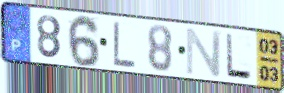6: (66, 13, 102, 69)
8: (146, 23, 174, 74), (36, 14, 63, 60)
L: (224, 31, 254, 82), (112, 19, 137, 70)
N: (184, 27, 224, 78)
